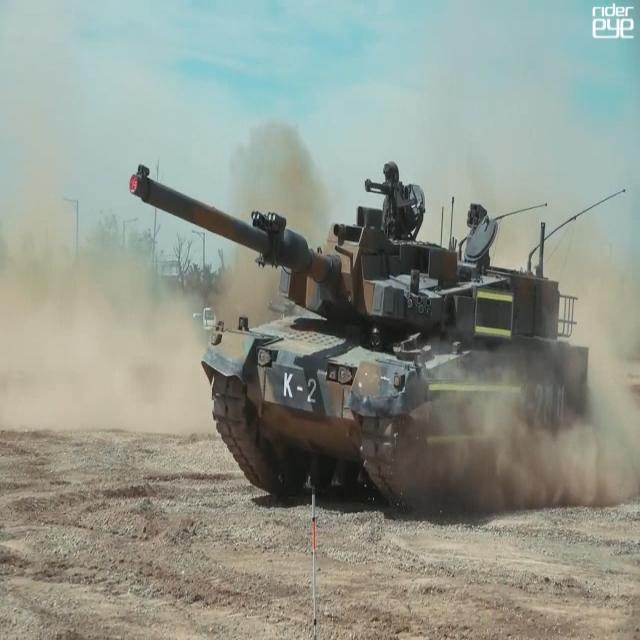korea tank: (128, 161, 589, 523)
